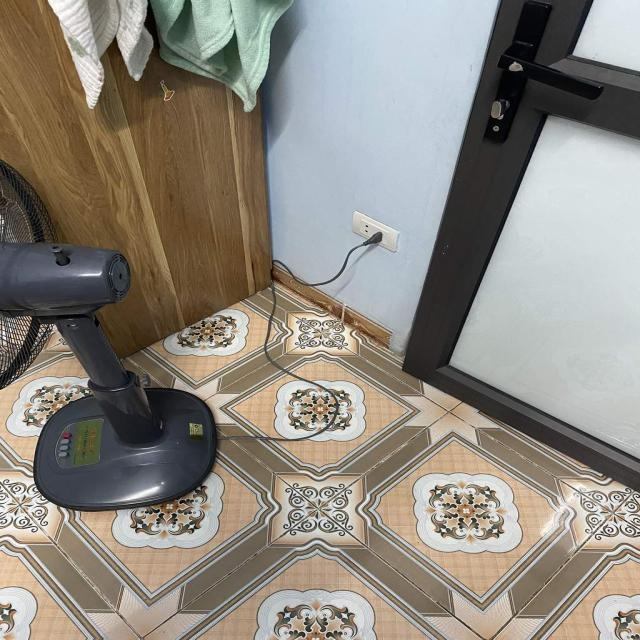outlet: (351, 211, 400, 252)
